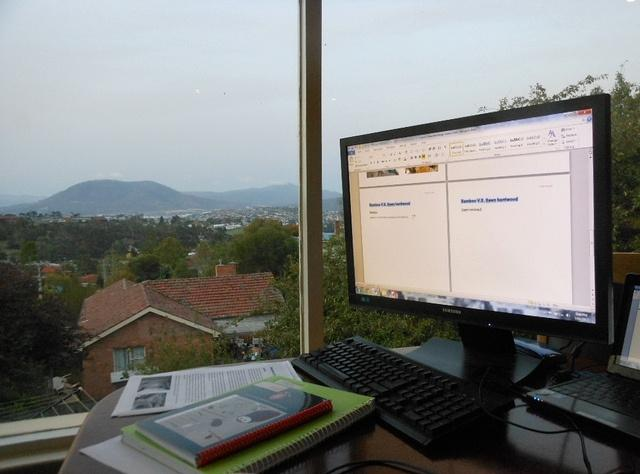AIO PC-Monitor-TV: (338, 89, 612, 351)
